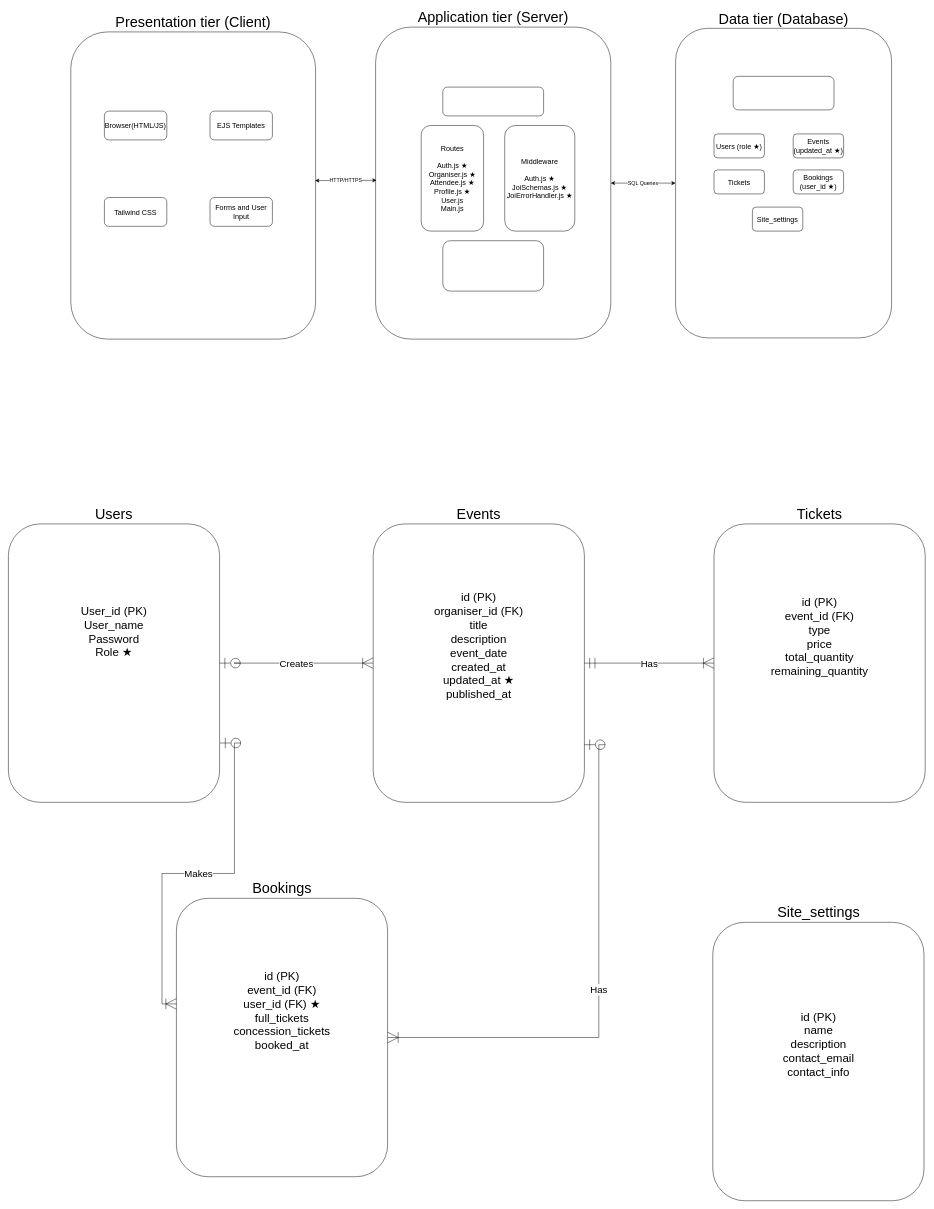
Image size: 934x1209. Some labels were removed from this diagram. Each missing label, with the centre of its shape:
"Node.js and Express Server" belongs at point 493,101.
"Session Managers express-session SQLite session store" belongs at point 493,265.
"SQLite Database" belongs at point 783,93.
